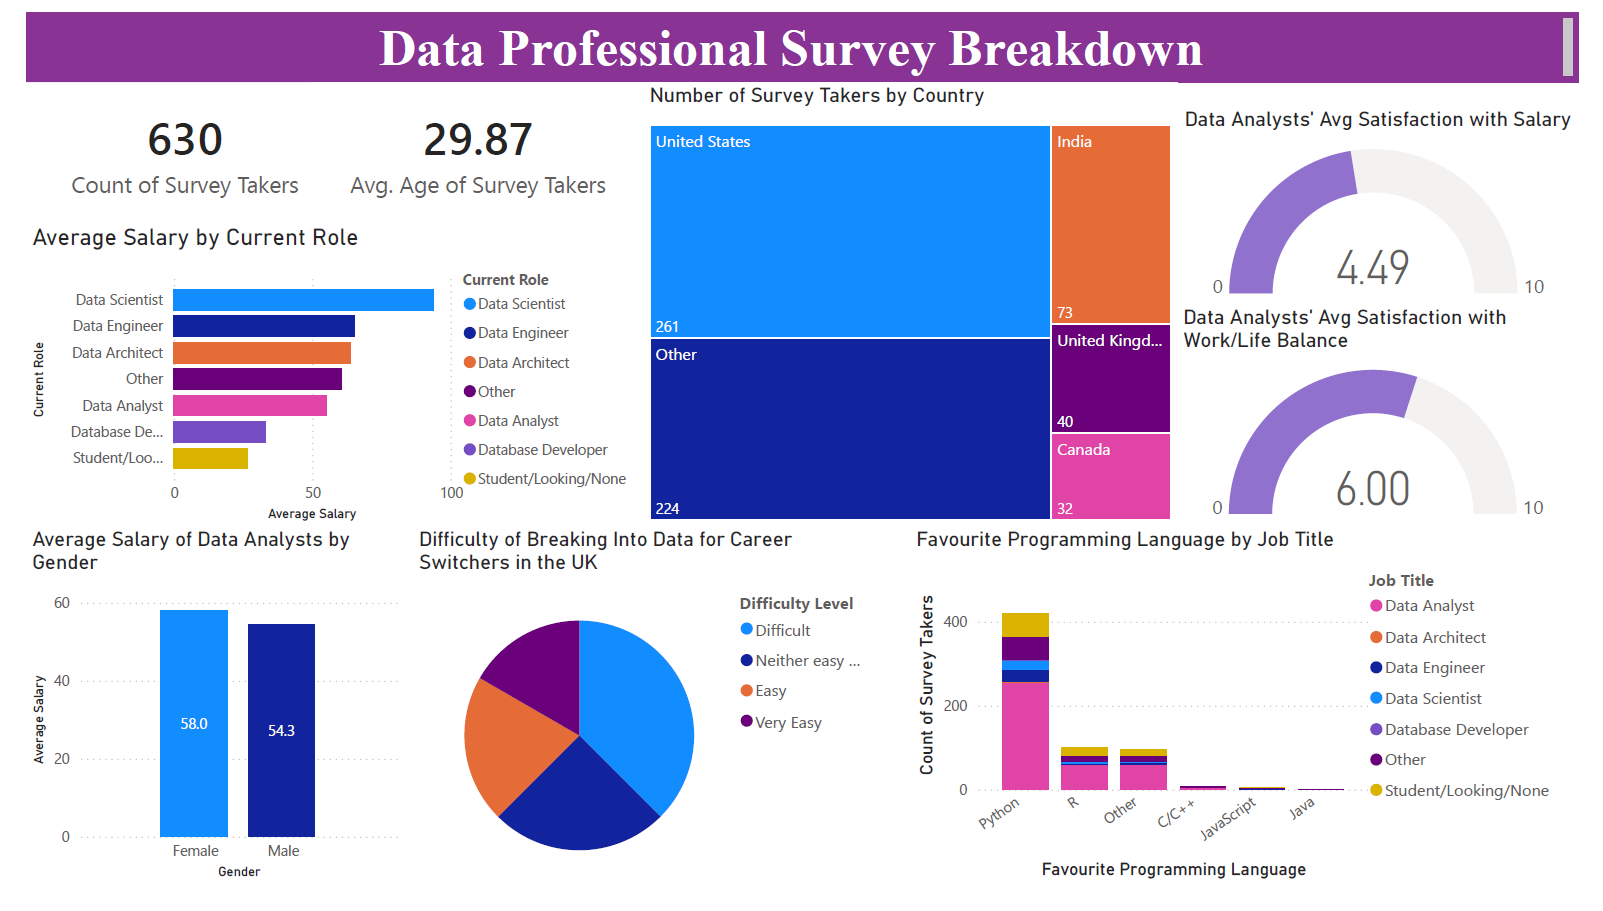

What the dashboard file says about the page in this screenshot:
{"tool":"powerbi","page":{"name":"Page 1","canvas":[1280,720],"ordinal":0},"visuals":[{"type":"textbox","box":[0,0,1280.3,58.4],"z":0},{"type":"cardVisual","fields":{"Data":["CountNonNull(Data Professional Survey.Unique ID)"]},"box":[0,58.4,262.1,115.3],"z":1000},{"type":"cardVisual","fields":{"Data":["Avg(Data Professional Survey.Q10 - Current Age)"]},"box":[235.1,58.4,275.5,115.3],"z":2000},{"type":"barChart","title":"Average Salary by Current Role","fields":{"Category":["Data Professional Survey.Q1 - Which Title Best Fits your Current Role?.1"],"Y":["Avg(Data Professional Survey.Average Salary)"],"Series":["Data Professional Survey.Q1 - Which Title Best Fits your Current Role?.1"]},"box":[0,173.7,509.1,250.1],"z":3000},{"type":"columnChart","title":"Favourite Programming Language by Job Title","fields":{"Category":["Data Professional Survey.Q5 - Favorite Programming Language.1"],"Y":["CountNonNull(Data Professional Survey.Unique ID)"],"Series":["Data Professional Survey.Q1 - Which Title Best Fits your Current Role?.1"]},"box":[729.2,423.8,540.6,296.5],"z":4000},{"type":"treemap","title":"Number of Survey Takers by Country","fields":{"Group":["Data Professional Survey.Q11 - Which Country do you live in?.1"],"Values":["CountNonNull(Data Professional Survey.Q11 - Which Country do you live in?.1)"]},"box":[509.1,58.4,440.2,365.4],"z":5000},{"type":"gauge","title":"Data Analysts'' Avg Satisfaction with Salary","fields":{"Y":["Avg(Data Professional Survey.Q6 - How Happy are you in your Current Position with the following? (Salary))"],"MinValue":["Min(Data Professional Survey.Q6 - How Happy are you in your Current Position with the following? (Salary))1"],"MaxValue":["Max(Data Professional Survey.Q6 - How Happy are you in your Current Position with the following? (Salary))2"]},"box":[949.6,78.2,330.7,163.3],"z":6000},{"type":"gauge","title":"Data Analysts'' Avg Satisfaction with Work/Life Balance","fields":{"Y":["Avg(Data Professional Survey.Q6 - How Happy are you in your Current Position with the following? (Work/Life Balance))"],"MinValue":["Min(Data Professional Survey.Q6 - How Happy are you in your Current Position with the following? (Work/Life Balance))1"],"MaxValue":["Max(Data Professional Survey.Q6 - How Happy are you in your Current Position with the following? (Work/Life Balance))2"]},"box":[949.4,241.1,330.9,182.7],"z":7000},{"type":"pieChart","title":"Difficulty of Breaking Into Data for Career Switchers in the UK","fields":{"Category":["Data Professional Survey.Q7 - How difficult was it for you to break into Data?"],"Y":["CountNonNull(Data Professional Survey.Q7 - How difficult was it for you to break into Data?)"]},"box":[319,423.8,387.8,296.5],"z":8000},{"type":"columnChart","title":"Average Salary of Data Analysts by Gender","fields":{"Category":["Data Professional Survey.Q9 - Male/Female?"],"Y":["Avg(Data Professional Survey.Average Salary)"],"Series":["Data Professional Survey.Q9 - Male/Female?"]},"box":[0,423.8,311.5,296.5],"z":9000}]}

Visuals, with their boxes in screenshot pixels (x1, y1, x2, y2), scaled from the page's 1280x720 canvas onto the 1603x911 screenshot:
textbox: (x1=0, y1=0, x2=1602, y2=74)
cardVisual - CountNonNull(Data Professional Survey.Unique ID): (x1=0, y1=74, x2=328, y2=220)
cardVisual - Avg(Data Professional Survey.Q10 - Current Age): (x1=294, y1=74, x2=639, y2=220)
"Average Salary by Current Role" barChart: (x1=0, y1=220, x2=638, y2=536)
"Favourite Programming Language by Job Title" columnChart: (x1=913, y1=536, x2=1590, y2=910)
"Number of Survey Takers by Country" treemap: (x1=638, y1=74, x2=1189, y2=536)
"Data Analysts'' Avg Satisfaction with Salary" gauge: (x1=1189, y1=99, x2=1602, y2=306)
"Data Analysts'' Avg Satisfaction with Work/Life Balance" gauge: (x1=1189, y1=305, x2=1602, y2=536)
"Difficulty of Breaking Into Data for Career Switchers in the UK" pieChart: (x1=399, y1=536, x2=885, y2=910)
"Average Salary of Data Analysts by Gender" columnChart: (x1=0, y1=536, x2=390, y2=910)
